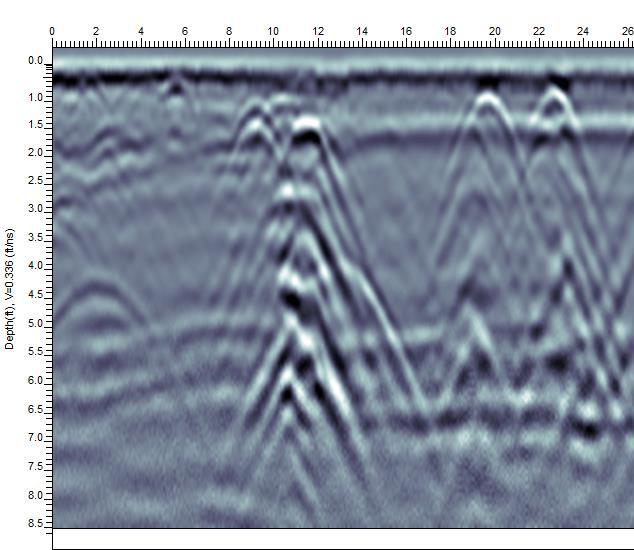hyperbola: (56, 268, 175, 394), (429, 90, 529, 217), (211, 93, 283, 209)
